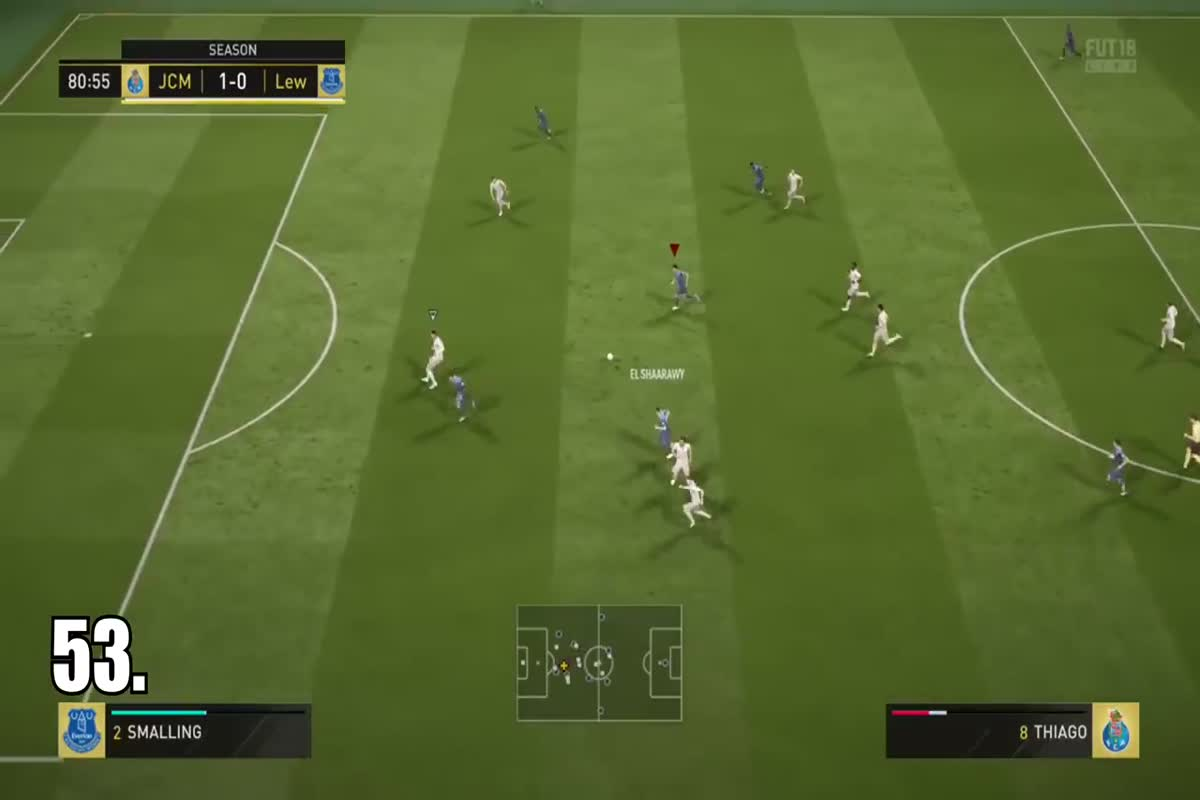ball: (595, 345, 625, 366)
